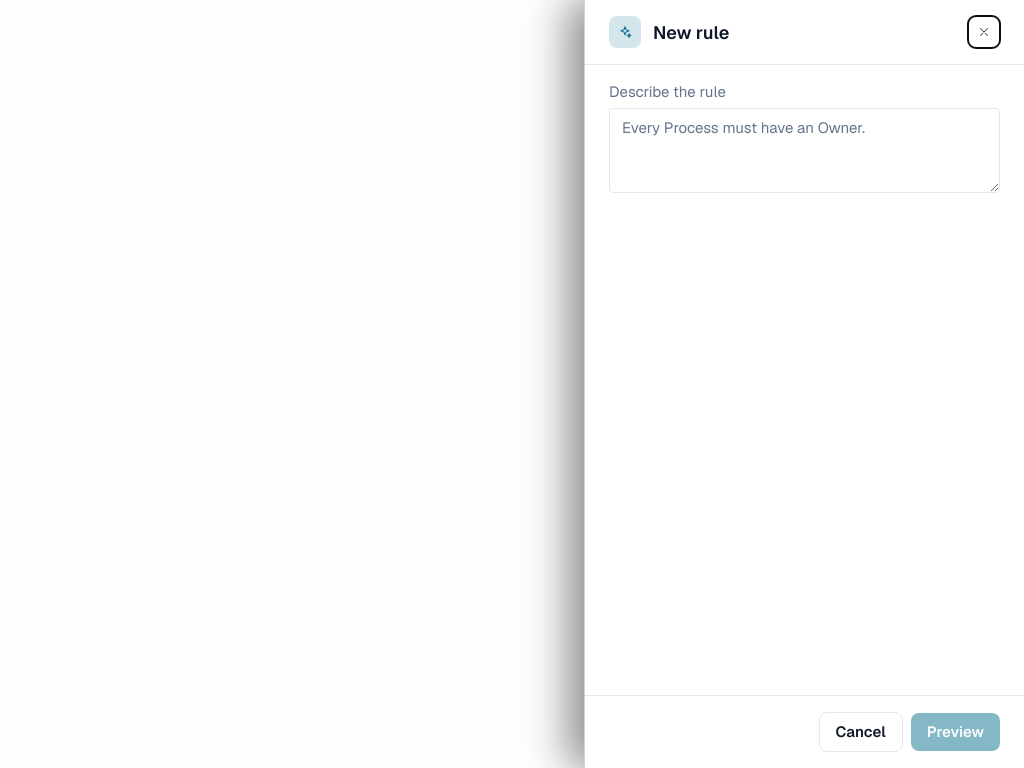
Test: NlRuleDrawer › shows the 503 message inline instead of crashing (graceful degradation)
Type "Every Foo must have a bar." into the text box labelled "Describe the rule".
click(804, 150); type("Every Foo must have a bar.")  # box [609,108,1000,193]
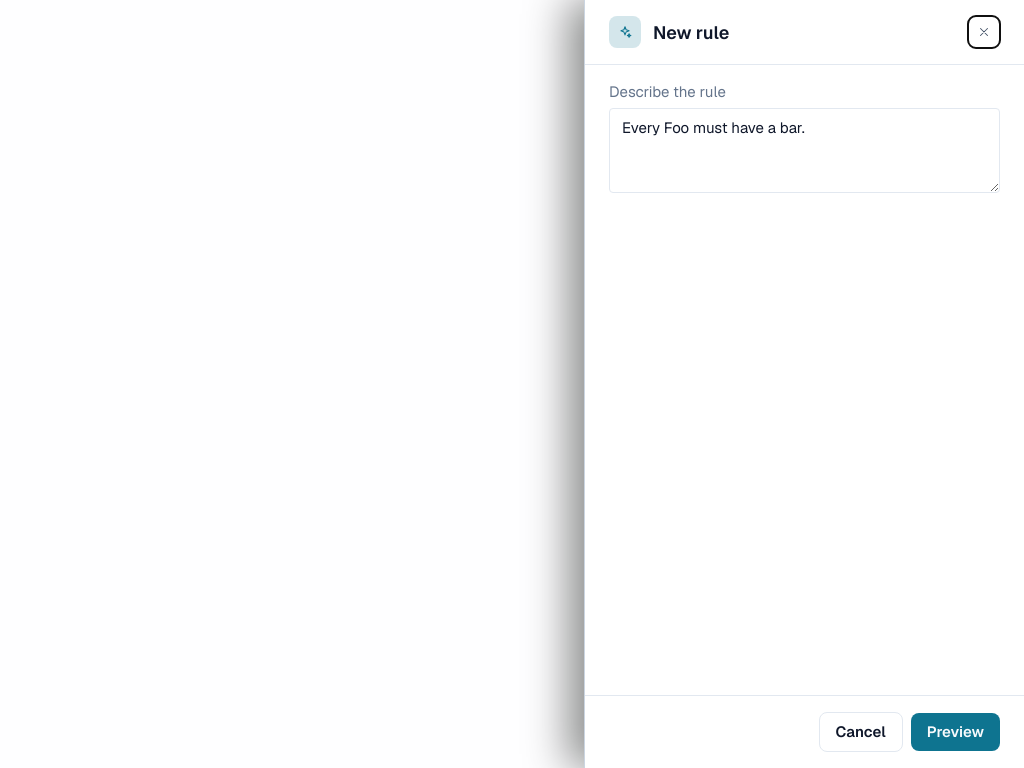
Click the button "Preview".
click(955, 732)  # box [911,712,1000,751]
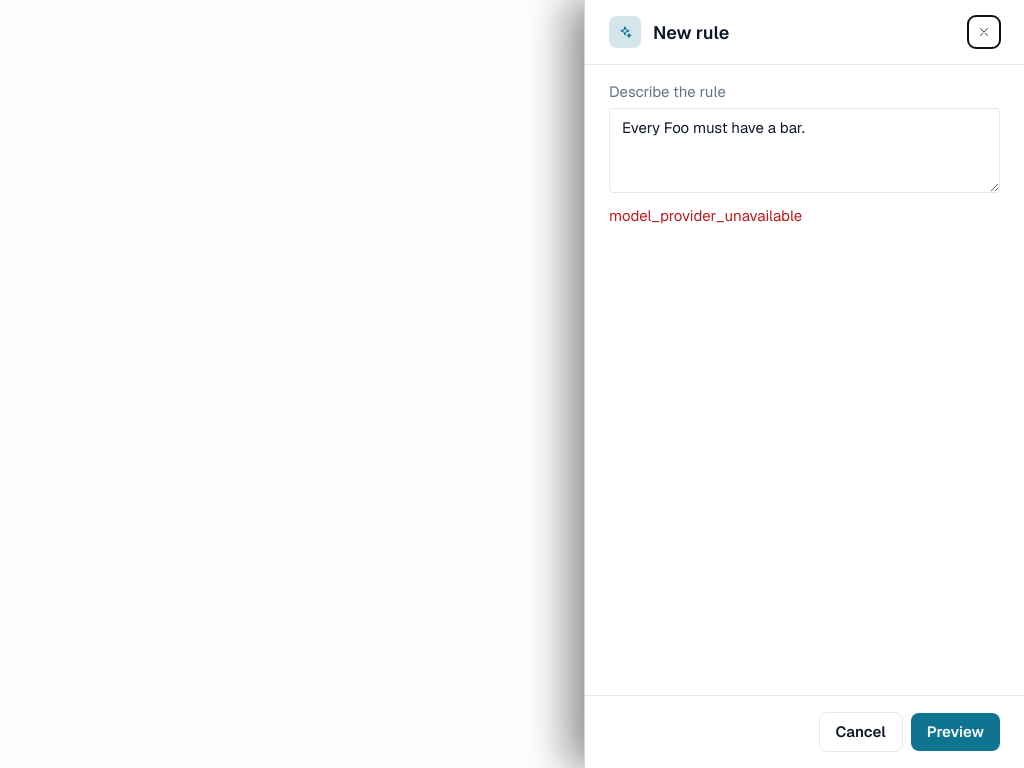
Expected: the text "model_provider_unavailable" is shown, [609,206,802,225]
